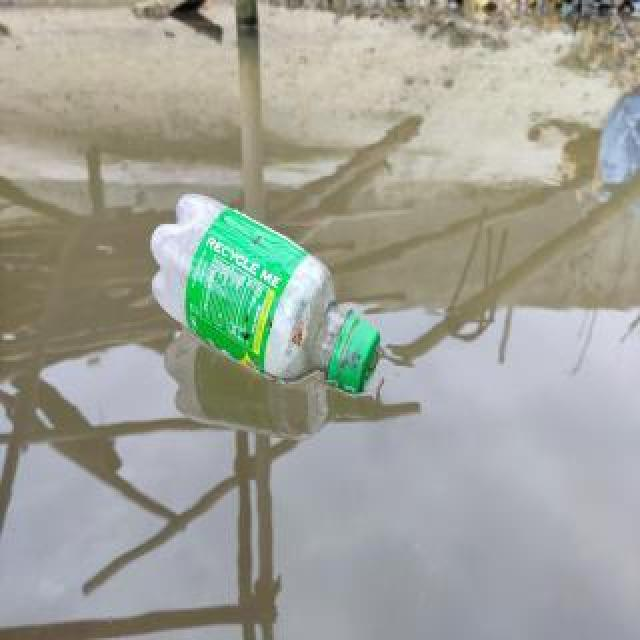bottle: (148, 190, 386, 400)
